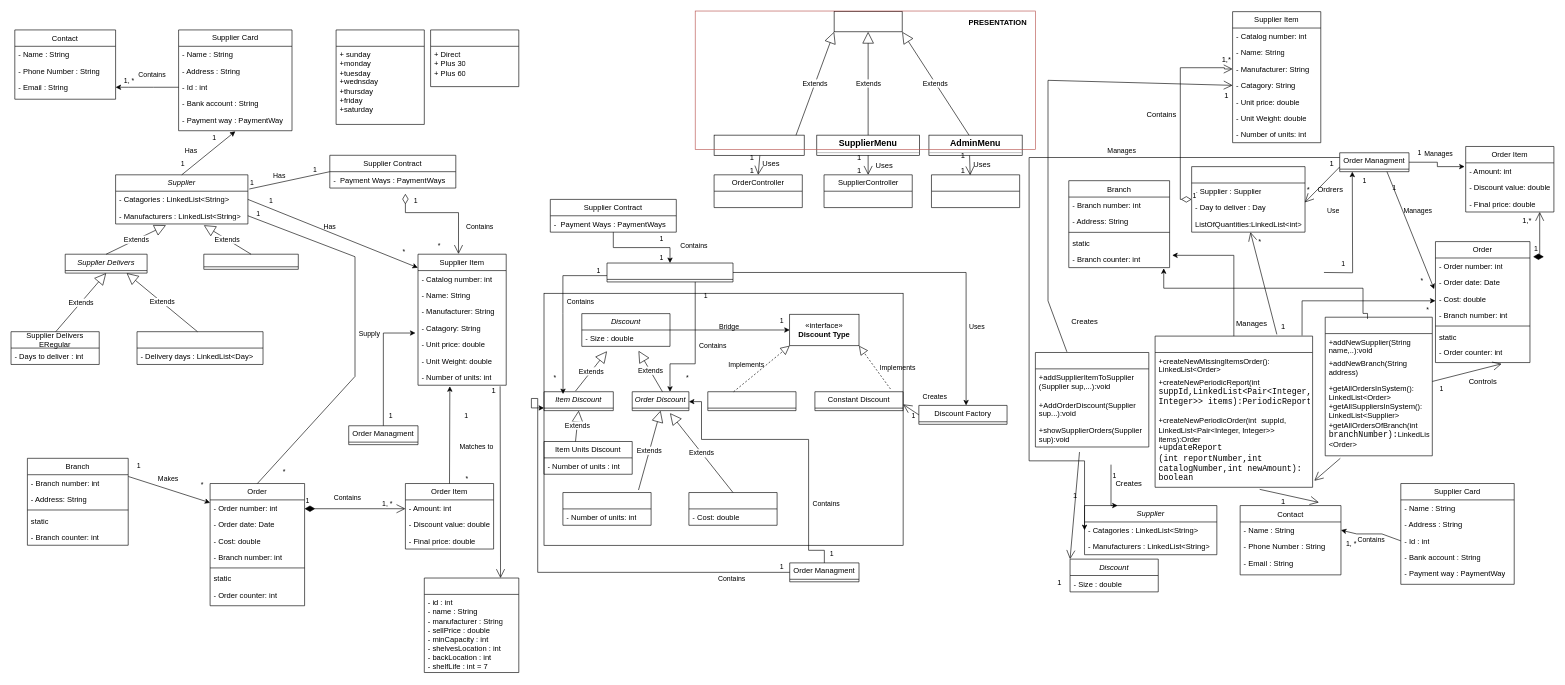
The diagram is 1565 pixels wide and 685 high, and some of its shapes have lost their labels. Each missing label, with the box of its shape:
<<enum>> Day: (335, 29, 424, 124)
<<enum>> Payment Way: (430, 29, 519, 87)
Admin Controller: (1325, 317, 1432, 456)
AdminController: (931, 174, 1020, 208)
AMenu: (833, 11, 902, 32)
CatalogItem: (424, 577, 519, 673)
Discount document: (606, 262, 733, 282)
Order Controller: (1154, 335, 1313, 487)
Order Cost Discount: (688, 492, 777, 525)
Order Units Discount: (562, 492, 651, 525)
OrderMenu: (713, 135, 804, 155)
Percentage Discount: (707, 391, 796, 411)
PeriodicReport: (1191, 166, 1305, 232)
Supplier Controller: (1035, 352, 1149, 447)
Supplier Delivers Regular: (136, 331, 263, 364)
Supplier Not Delivers: (203, 254, 298, 269)
